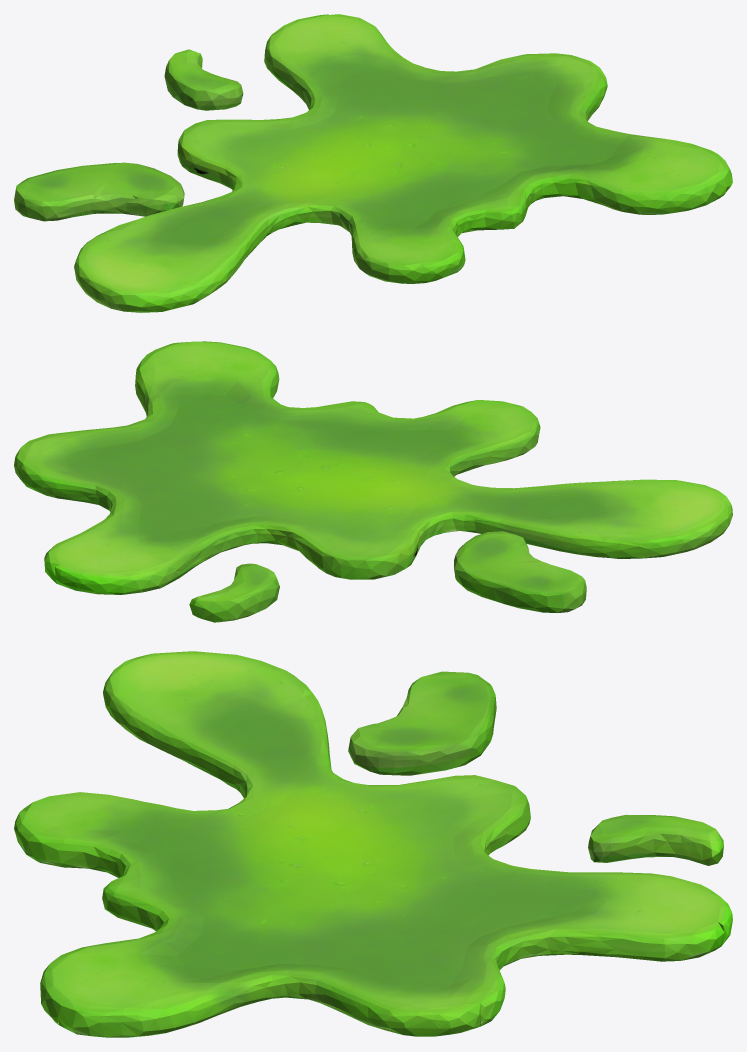
Rendered from Green_Splatter_0706143412_texture.fbx.
3 views of the same model, one above another, from view 1: azimuth 30°, elevation 25°; view 2: azimuth 150°, elevation 25°; view 3: azimuth 270°, elevation 25° (orthographic). The views are drawn at different scales.
Visible parts, largest first — view 1: temp; view 2: temp; view 3: temp.
Part boxes in pixels (x1,y1,x2,y2): temp: [14, 14, 732, 312]; temp: [14, 341, 732, 622]; temp: [14, 651, 732, 1037].
Bounding box in the file's own units: 200 × 7.47 × 166.
Materials: 1 (1 with a texture image).
